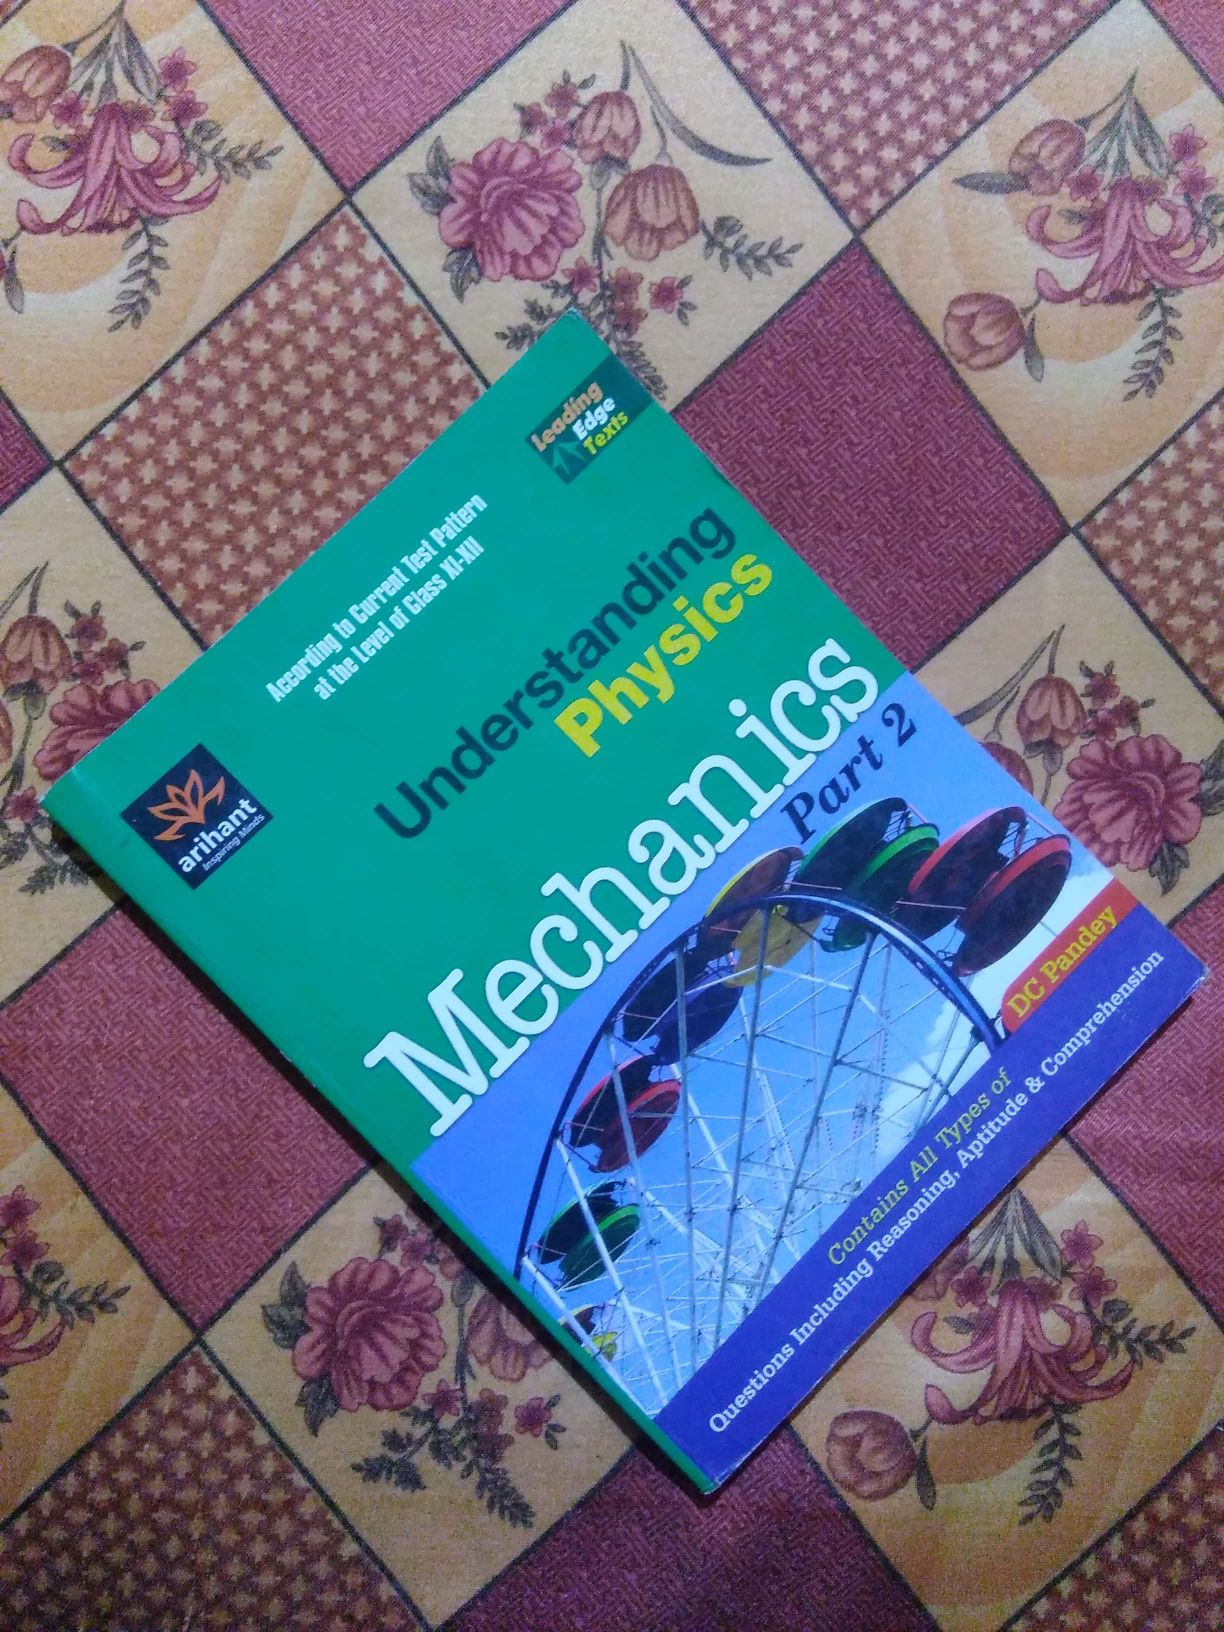mechanics: (87, 343, 1221, 1488)
